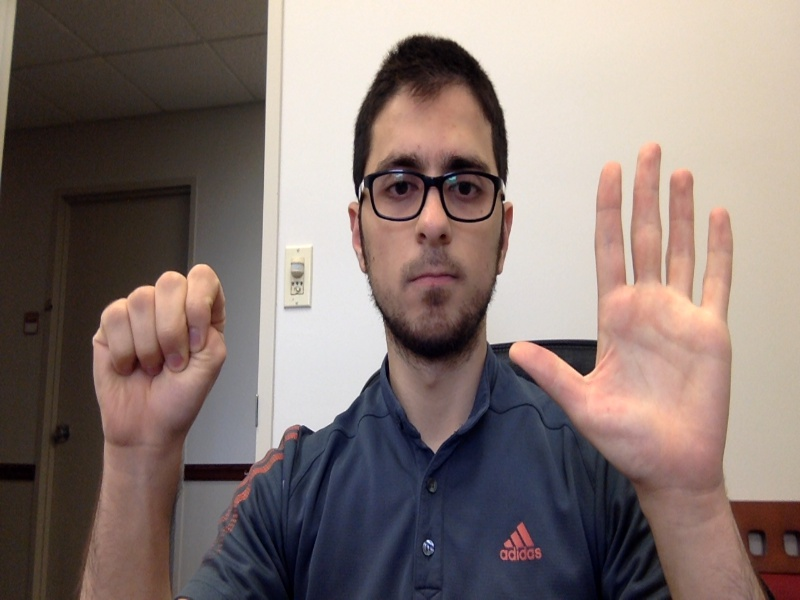0-hand: (90, 264, 227, 441)
5-hand: (510, 145, 732, 500)
